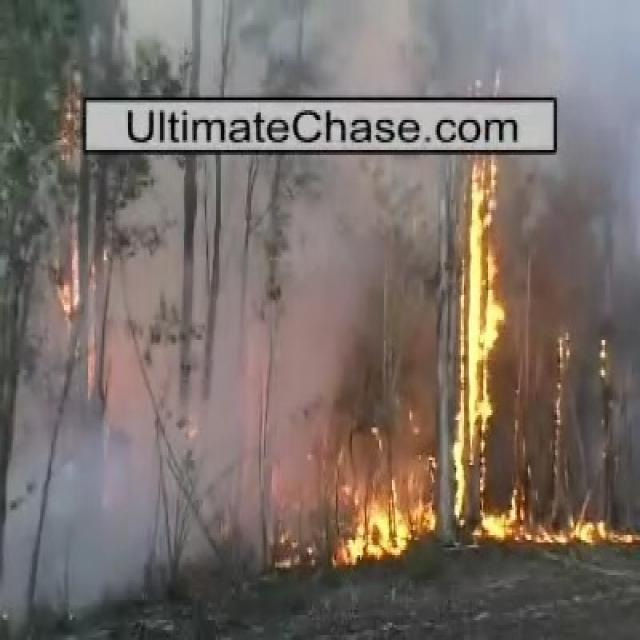fire: (455, 164, 497, 519), (353, 494, 433, 558)
smoke: (18, 393, 101, 611), (473, 5, 588, 97)
